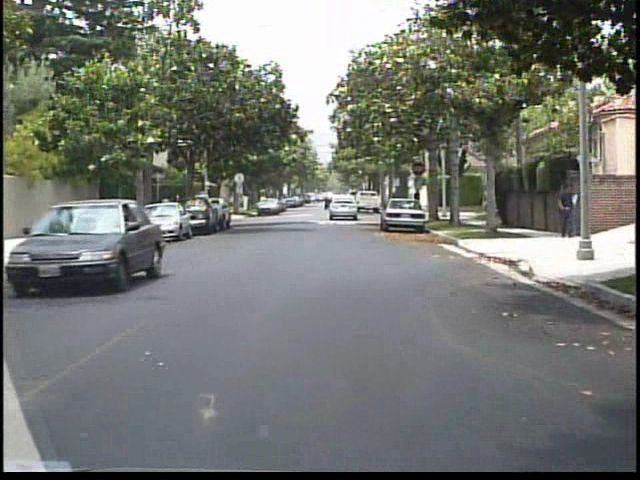person: (554, 177, 577, 242), (159, 191, 175, 232)
